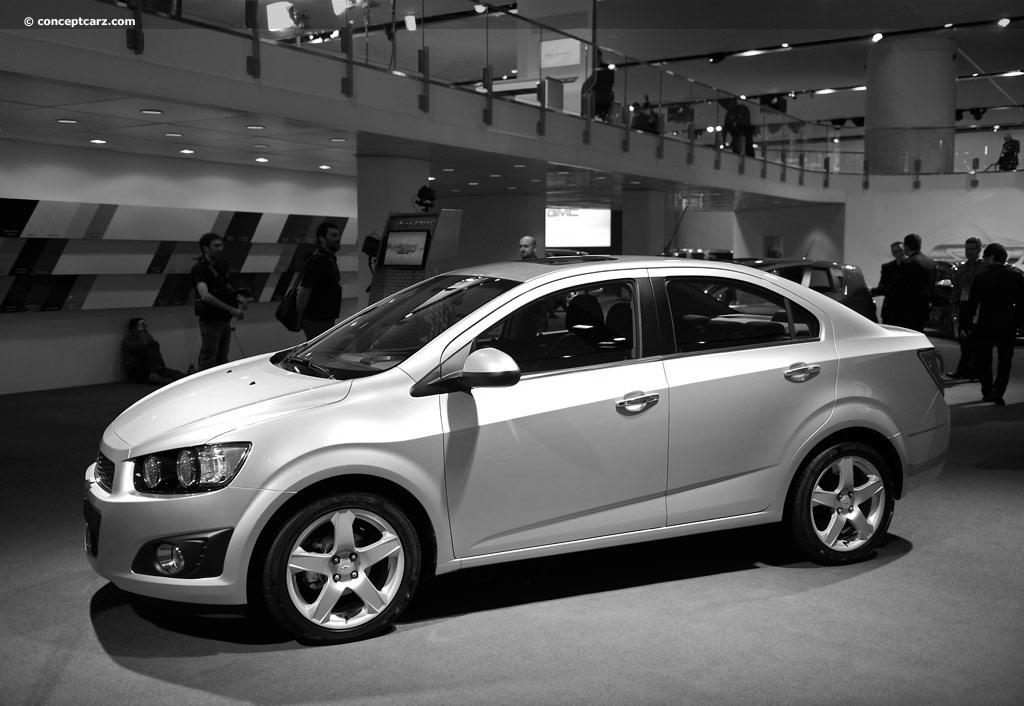car: (86, 257, 935, 645)
